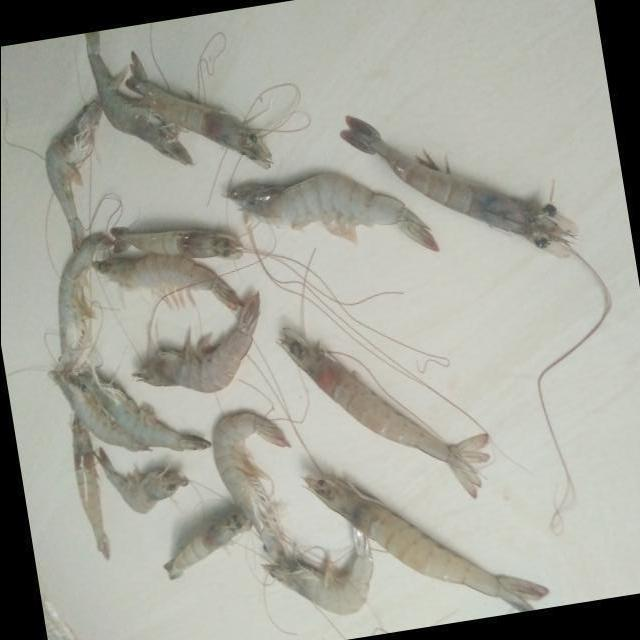shrimp: (278, 329, 488, 498), (340, 115, 575, 257), (303, 476, 548, 612), (124, 52, 270, 168), (225, 173, 438, 251), (83, 31, 191, 164), (132, 294, 258, 393), (70, 368, 209, 452), (211, 413, 289, 562), (261, 524, 372, 616), (89, 254, 241, 311), (43, 100, 100, 251), (47, 371, 148, 452), (56, 233, 111, 371), (162, 512, 250, 581), (95, 449, 187, 514), (70, 416, 108, 561), (108, 227, 241, 259)
